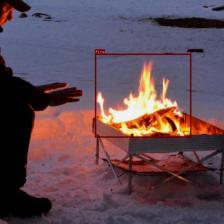fire: (95, 54, 191, 138)
